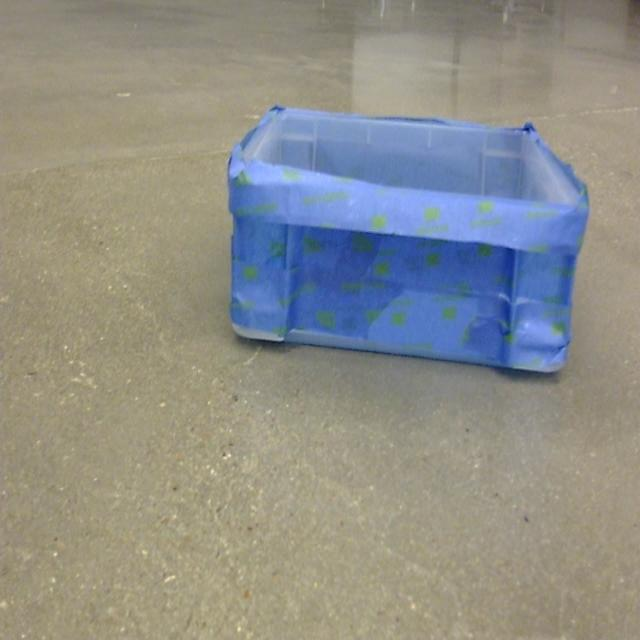bucket: (226, 106, 590, 377)
